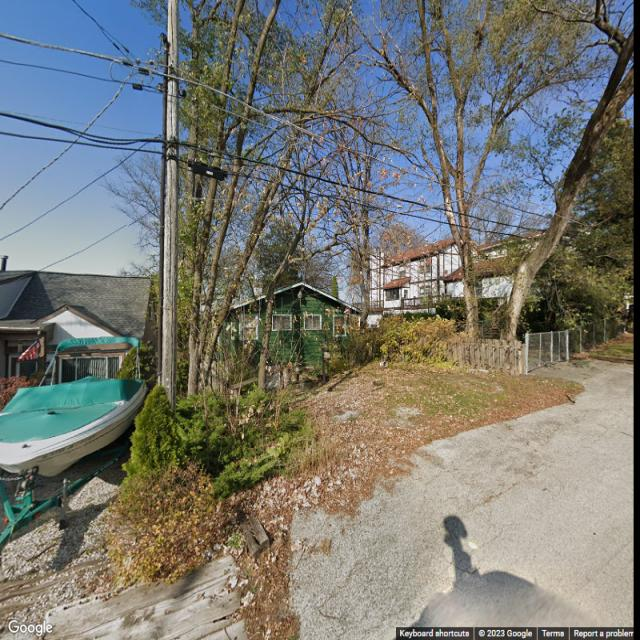House: (0, 257, 151, 381), (368, 232, 542, 316), (228, 283, 363, 366)
